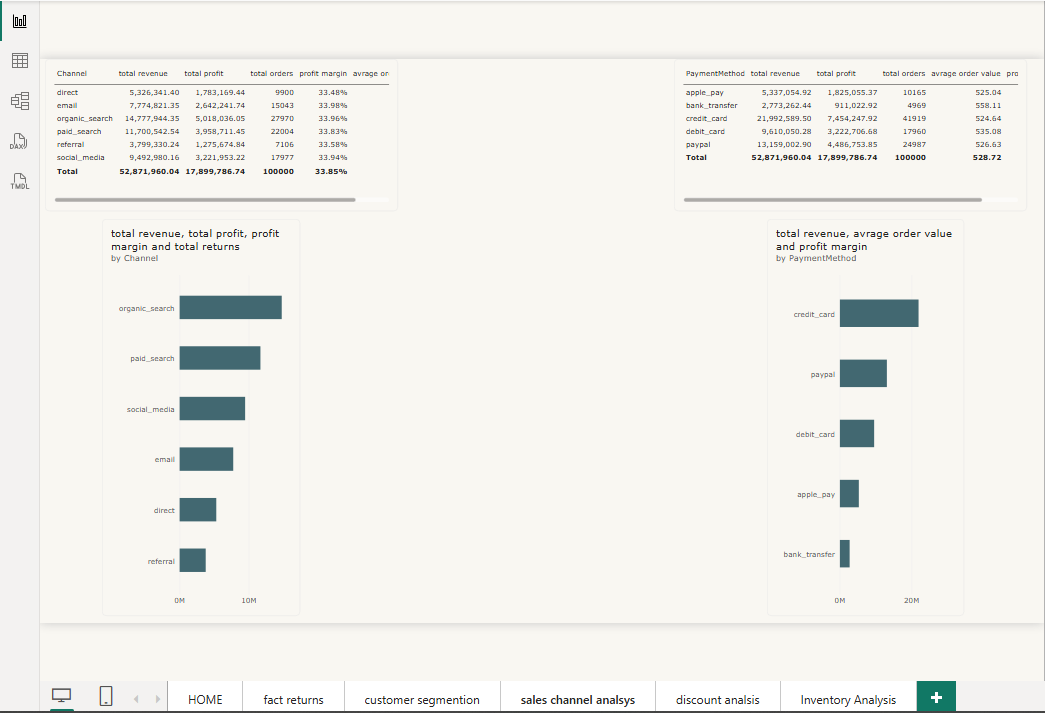

What the dashboard file says about the page in this screenshot:
{"tool":"powerbi","page":{"name":"sales channel analsys","canvas":[1920,1080],"ordinal":3},"visuals":[{"type":"tableEx","fields":{"Values":["dw FactSales.Channel","dw FactReturns.total revenue","dw FactReturns.total profit","dw FactReturns.total orders","dw FactReturns.profit margin","dw FactReturns.avrage order value"]},"box":[9.6,0,675.1,290.7],"z":0},{"type":"clusteredBarChart","fields":{"Category":["dw FactSales.Channel"],"Y":["dw FactReturns.total revenue"]},"box":[118.6,306,378.6,759.2],"z":1},{"type":"tableEx","fields":{"Values":["dw FactSales.PaymentMethod","dw FactReturns.total revenue","dw FactReturns.total profit","dw FactReturns.total orders","dw FactReturns.avrage order value","dw FactReturns.profit margin"]},"box":[1212.4,0,675.1,290.7],"z":2},{"type":"clusteredBarChart","fields":{"Category":["dw FactSales.PaymentMethod"],"Y":["dw FactReturns.total revenue"]},"box":[1390.3,306,376.7,759.2],"z":3}]}

Visuals, with their boxes on the page's 1920x1080 design canvas (x1, y1, x2, y2). These are canvas units, not pixel positions in the 1045x713 screenshot, which may show the page scaled, cropped or inside an application window:
tableEx - dw FactSales.Channel x dw FactReturns.total revenue: <region>10, 0, 685, 291</region>
clusteredBarChart - dw FactSales.Channel x dw FactReturns.total revenue: <region>119, 306, 497, 1065</region>
tableEx - dw FactSales.PaymentMethod x dw FactReturns.total revenue: <region>1212, 0, 1888, 291</region>
clusteredBarChart - dw FactSales.PaymentMethod x dw FactReturns.total revenue: <region>1390, 306, 1767, 1065</region>
